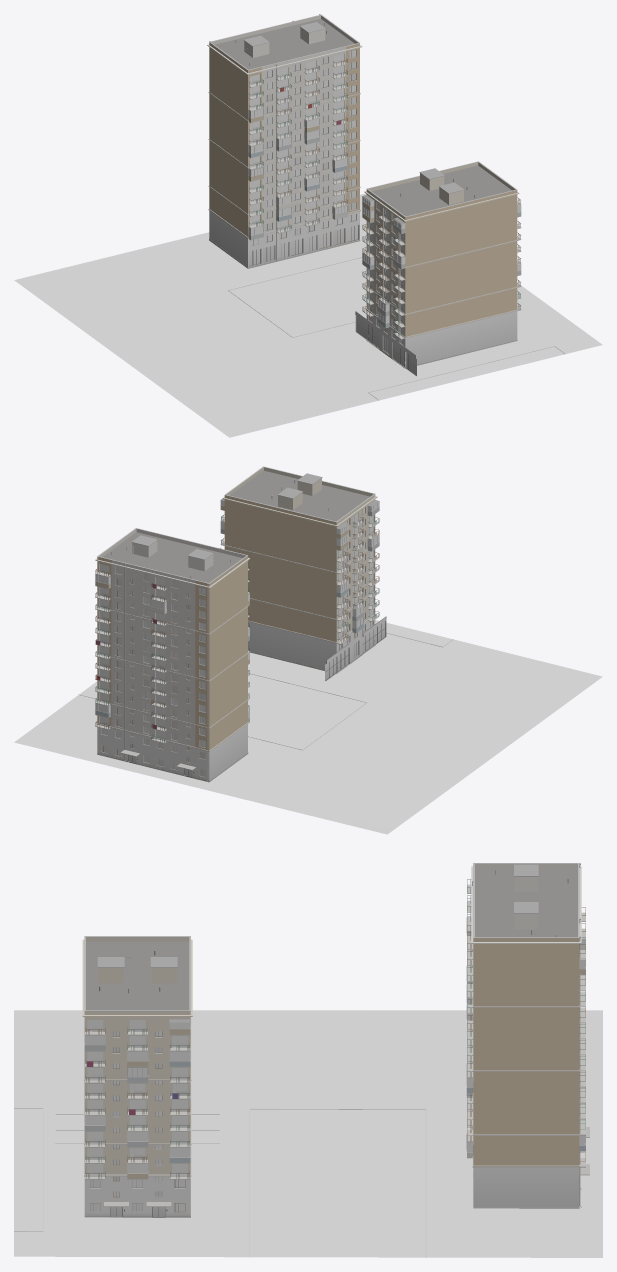
Rendered from chunk_3_0.glb.
3 renders of one model, top to bottom at view 1: azimuth 30°, elevation 25°; view 2: azimuth 150°, elevation 25°; view 3: azimuth 270°, elevation 25°, orthographic. The views are drawn at different scales.
Visible parts, largest first — view 1: base, detail; view 2: base, detail; view 3: base, detail.
Part boxes in pixels (x1,y1,x2,y2): base: (14,14,602,437); detail: (209,14,520,375); base: (14,466,602,834); detail: (95,479,386,781); base: (14,863,602,1257); detail: (56,863,585,1217).
Size of what is drawn, in the model's own units: 100 by 53.8 by 100.
